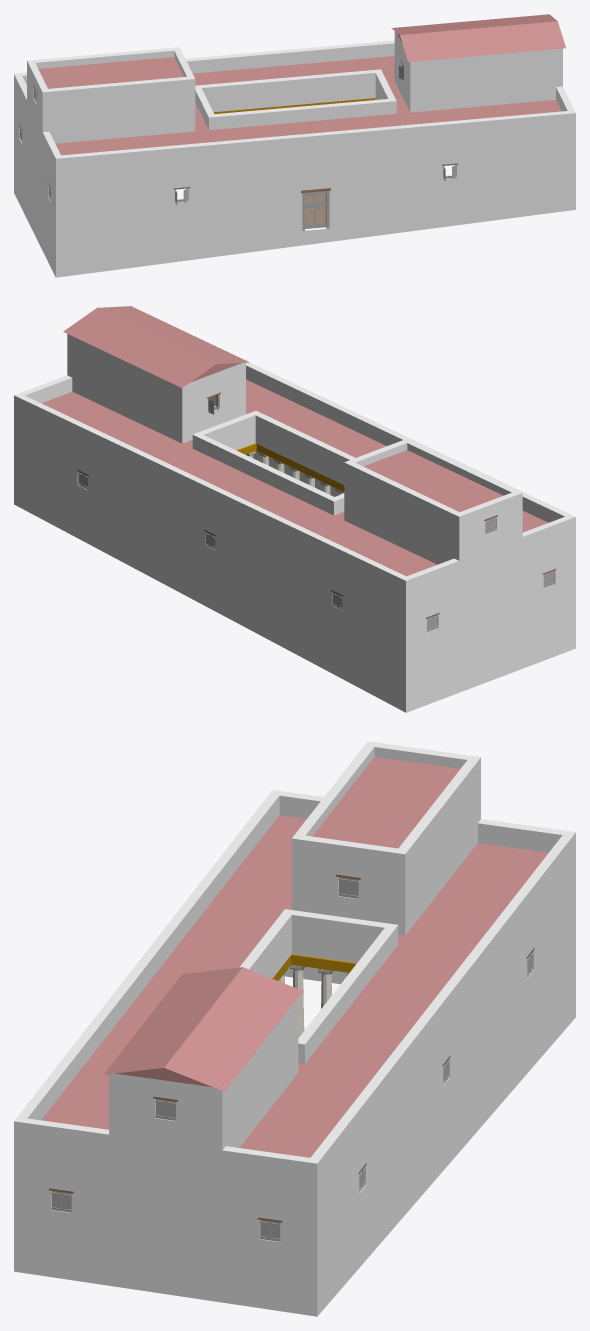
File: LOD_Block_3.glb
The picture shows the model from 3 angles, top to bottom: view 1: azimuth 30°, elevation 25°; view 2: azimuth 150°, elevation 25°; view 3: azimuth 270°, elevation 25°; orthographic projection. The views are drawn at different scales.
Visible parts, largest first — view 1: _1.3960; view 2: _1.3960; view 3: _1.3960.
Boxes of the visible parts, bbox=[...] form: _1.3960: bbox=[14, 14, 575, 277]; _1.3960: bbox=[14, 306, 575, 712]; _1.3960: bbox=[14, 741, 575, 1316].
Size of the model in its own units: 40.86 by 13.33 by 25.96.
Materials: 21 (2 with a texture image).
